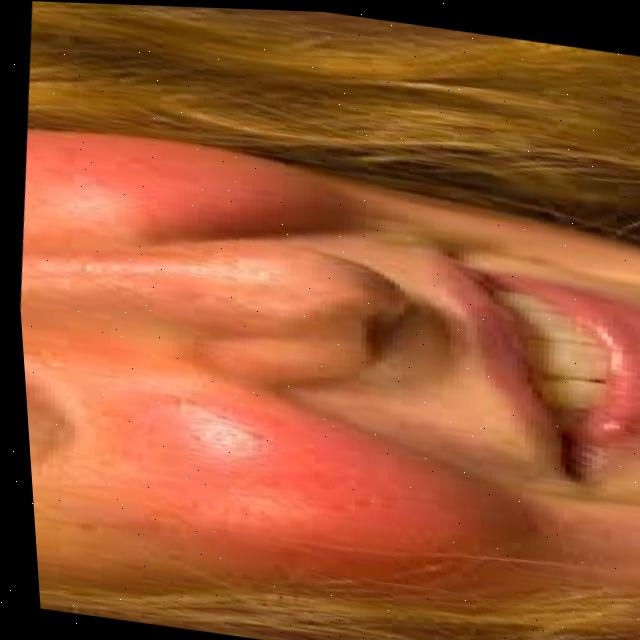Rosacea: (98, 364, 422, 614), (41, 109, 251, 274)
